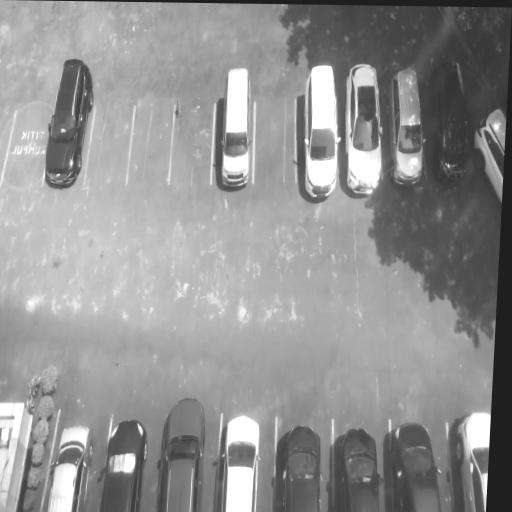Car: (152, 386, 207, 512), (298, 54, 344, 202), (342, 52, 387, 202), (45, 56, 93, 186), (212, 59, 257, 195), (428, 56, 474, 182), (94, 415, 150, 512), (389, 414, 443, 512), (387, 60, 428, 189), (41, 419, 96, 512), (214, 410, 261, 512), (272, 420, 322, 512), (445, 413, 491, 512), (330, 423, 380, 512), (469, 95, 507, 208)
Space Available: (171, 78, 218, 191), (252, 85, 298, 195), (129, 86, 175, 191), (4, 90, 50, 186), (88, 89, 131, 187)
